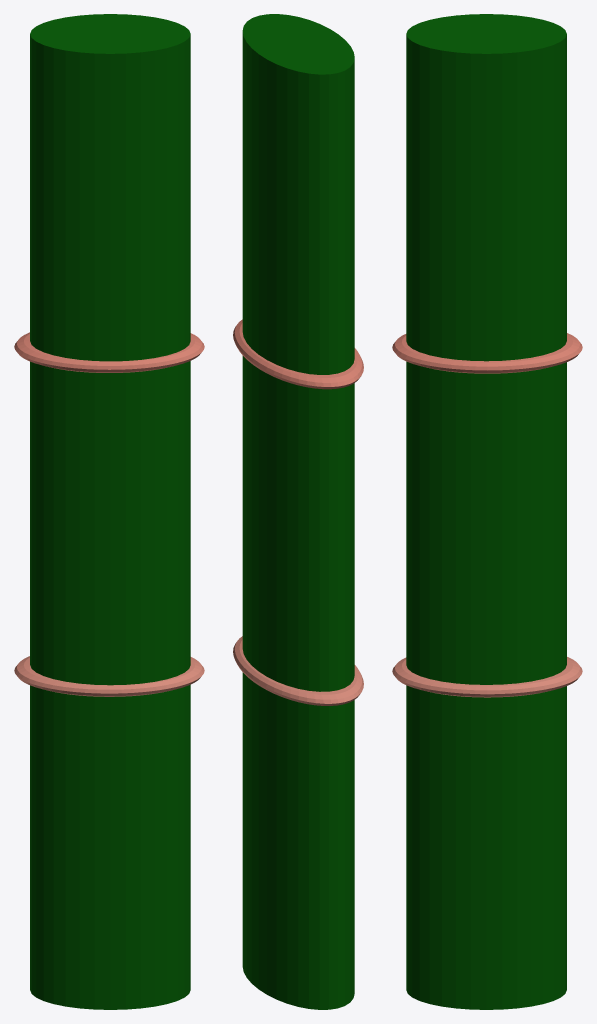
Rendered from debu.fbx.
3 renders of one model, left to right at view 1: azimuth 90°, elevation 25°; view 2: azimuth 210°, elevation 25°; view 3: azimuth 270°, elevation 25°, orthographic. The views are drawn at different scales.
Parts seen in each view (by area): view 1: Cylinder.005, Cylinder.004, Cylinder.003, Torus.003, Torus.002; view 2: Cylinder.005, Cylinder.004, Cylinder.003, Torus.003, Torus.002; view 3: Cylinder.005, Cylinder.004, Cylinder.003, Torus.002, Torus.003.
Boxes of the visible parts, box(x1,y1,x2,y2) form: Cylinder.005: box(30, 14, 190, 375); Cylinder.004: box(30, 685, 190, 1009); Cylinder.003: box(30, 361, 190, 685); Torus.003: box(14, 332, 204, 372); Torus.002: box(14, 656, 204, 696); Cylinder.005: box(242, 14, 354, 388); Cylinder.004: box(242, 672, 354, 1009); Cylinder.003: box(242, 356, 354, 691); Torus.003: box(233, 319, 363, 389); Torus.002: box(233, 636, 363, 705); Cylinder.005: box(406, 14, 566, 375); Cylinder.004: box(406, 685, 566, 1009); Cylinder.003: box(406, 361, 566, 684); Torus.002: box(392, 657, 582, 697); Torus.003: box(392, 333, 582, 373).
Size of the model in its own units: 127 by 1231 by 222.
